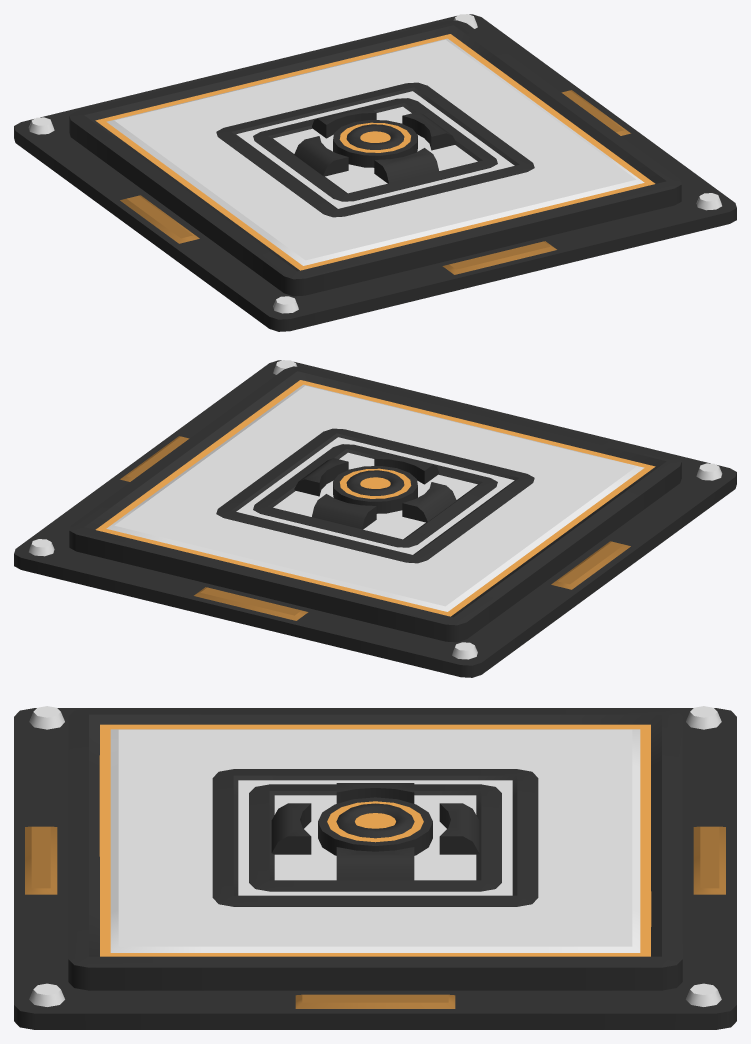
File: button_ex.dae
The picture shows the model from 3 angles, top to bottom: view 1: azimuth 30°, elevation 25°; view 2: azimuth 150°, elevation 25°; view 3: azimuth 270°, elevation 25°; orthographic projection. The views are drawn at different scales.
Visible parts, largest first — view 1: button_plate, button_base, button_laserdispenser, button_plate_S; view 2: button_plate, button_base, button_laserdispenser, button_plate_S; view 3: button_plate, button_base, button_laserdispenser, button_plate_S.
Part boxes in pixels (x1,y1,x2,y2): button_plate: (69, 20, 681, 296); button_base: (14, 14, 736, 331); button_laserdispenser: (216, 82, 534, 217); button_plate_S: (253, 98, 497, 201); button_plate: (69, 366, 681, 642); button_base: (14, 360, 736, 677); button_laserdispenser: (216, 428, 534, 563); button_plate_S: (253, 444, 497, 547); button_plate: (68, 708, 682, 990); button_base: (14, 706, 736, 1029); button_laserdispenser: (212, 769, 538, 906); button_plate_S: (249, 784, 501, 891).
Bounding box in the file's own units: 2 × 2 × 0.1805.
